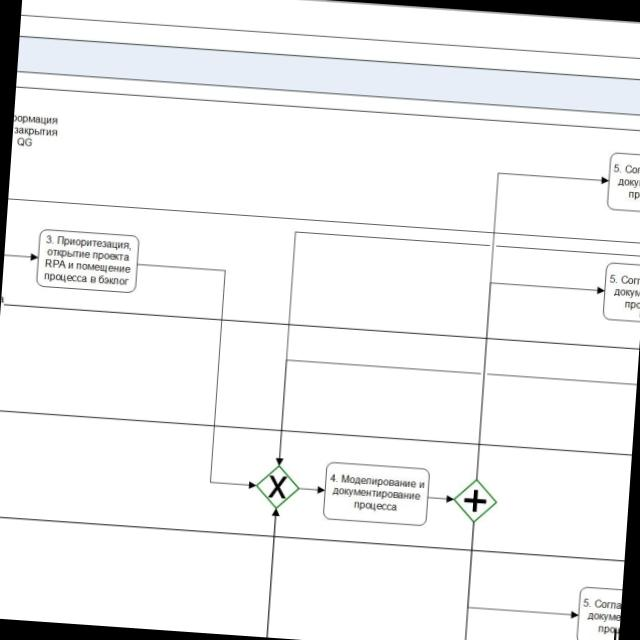arrow: (472, 167, 608, 486), (123, 260, 272, 490), (472, 277, 604, 487), (463, 521, 584, 621), (427, 492, 454, 504), (298, 484, 324, 495)
diamond: (254, 463, 300, 510), (453, 478, 499, 524)
rectangle: (322, 461, 430, 526), (35, 228, 139, 292)
